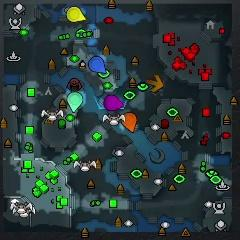p1: (88, 56, 106, 74)
p2: (67, 92, 82, 112)
p3: (104, 95, 124, 111)
p4: (67, 6, 86, 22)
p5: (121, 112, 136, 133)
x5: (146, 74, 163, 92)
